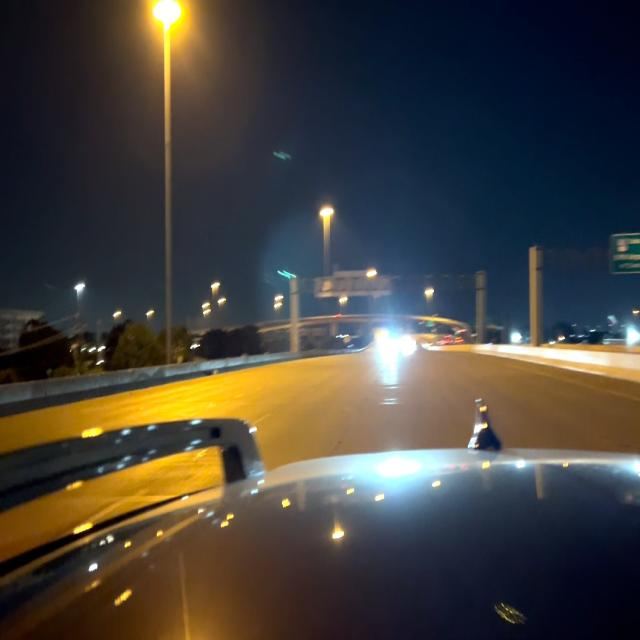back-of-sign: (314, 271, 390, 294)
